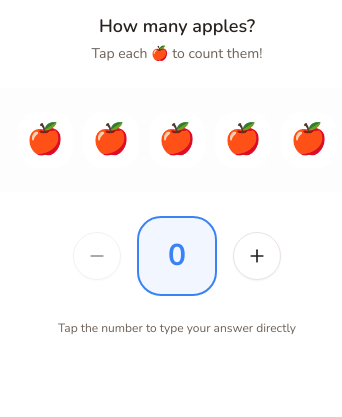
Test case: CountingWidget › tapping an emoji increments count
Click the button named "🍎 item 1": {"x": 45, "y": 140} [17,112,73,168]
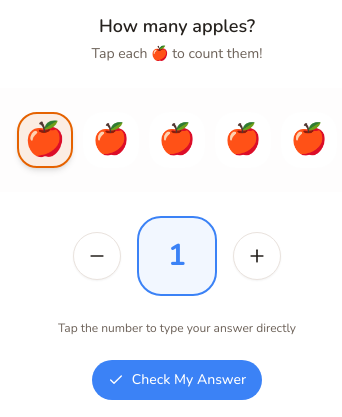
Now the text "1" is shown, box [168,238,186,274]
